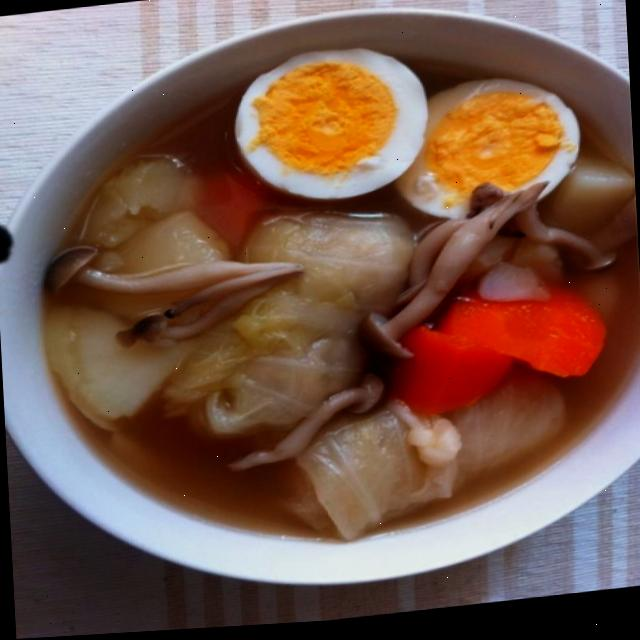汤锅炖物: (17, 0, 640, 608)
